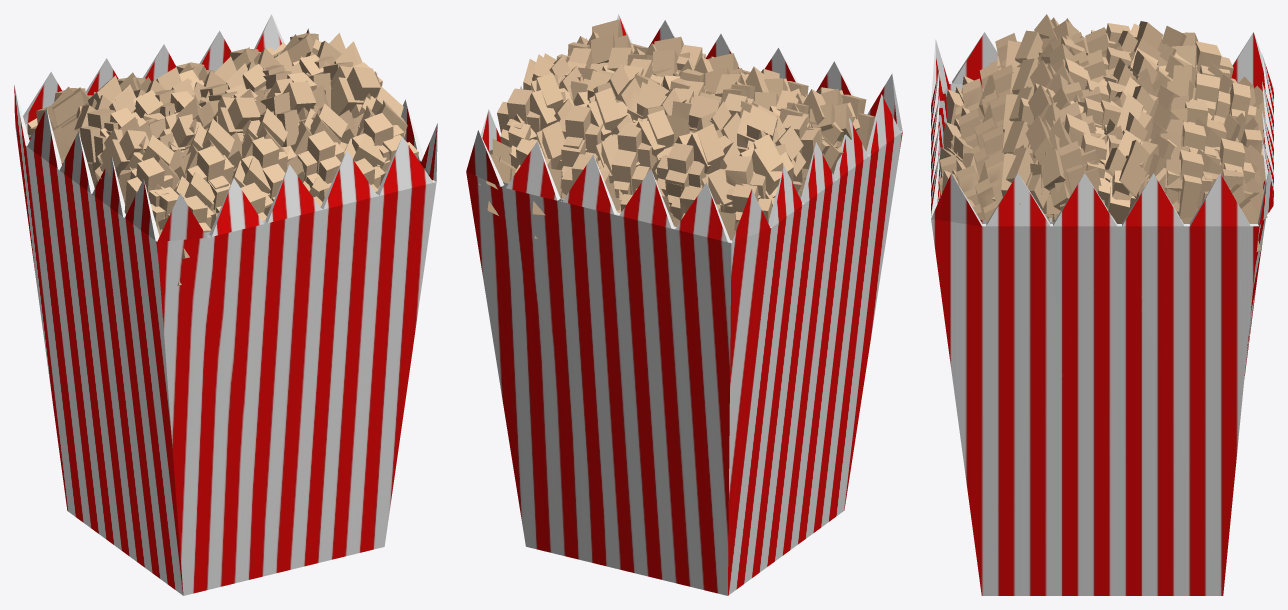
Rendered from Popcorn Bag.fbx.
3 views of the same model, side by side, from view 1: azimuth 30°, elevation 25°; view 2: azimuth 150°, elevation 25°; view 3: azimuth 270°, elevation 25° (orthographic). The views are drawn at different scales.
Parts seen in each view (by area): view 1: PopCBag, PopCorn; view 2: PopCBag, PopCorn; view 3: PopCBag, PopCorn.
Part boxes in pixels (x1,y1,x2,y2): PopCBag: (14, 14, 437, 595); PopCorn: (27, 32, 418, 285); PopCBag: (466, 14, 902, 595); PopCorn: (479, 19, 875, 240); PopCBag: (931, 32, 1273, 595); PopCorn: (939, 14, 1269, 251).
Bounding box in the file's own units: 7.82 × 11.92 × 7.72.
Materials: 2 (1 with a texture image).
